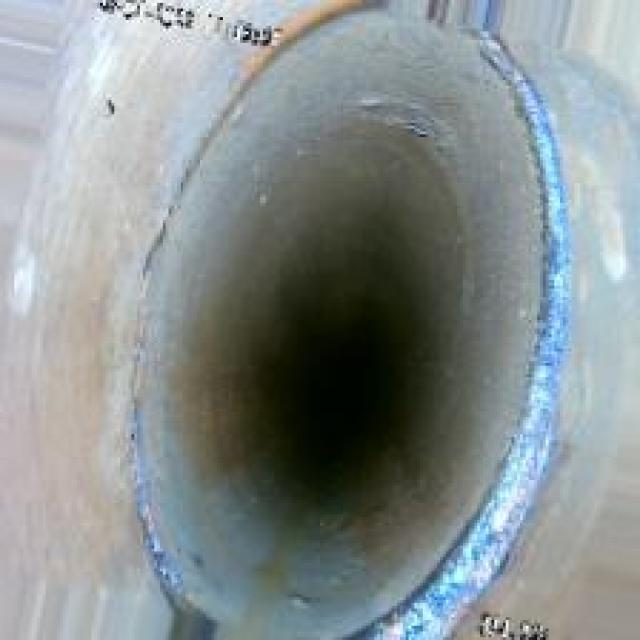joint: (114, 11, 569, 632)
